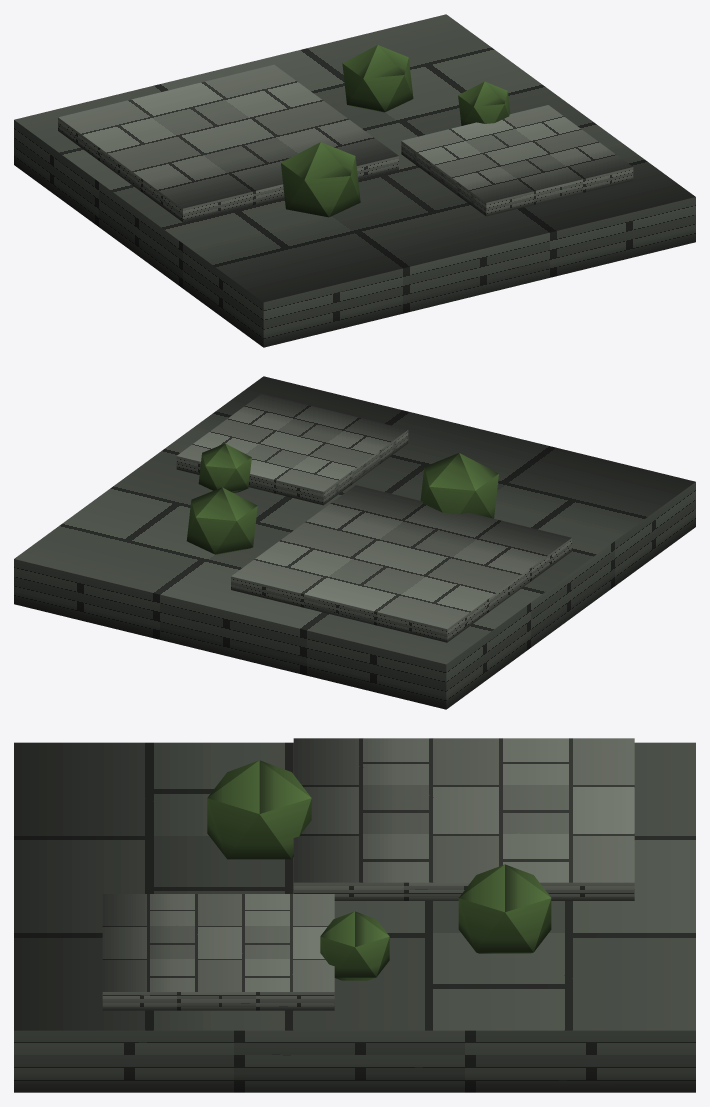
Rendered from ground_moss.gltf.
The picture shows the model from 3 angles, top to bottom: view 1: azimuth 30°, elevation 25°; view 2: azimuth 150°, elevation 25°; view 3: azimuth 270°, elevation 25°; orthographic projection. The views are drawn at different scales.
Visible parts, largest first — view 1: ground_moss; view 2: ground_moss; view 3: ground_moss.
Boxes of the visible parts, x1,y1,x2,y2 form: ground_moss: (14, 14, 695, 347); ground_moss: (14, 376, 695, 709); ground_moss: (14, 738, 695, 1092).
Bounding box in the file's own units: 1 × 0.23 × 1.
1 material, 1 textured.
